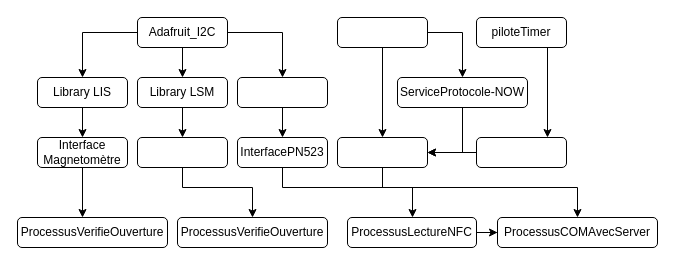
This 675x265 diagram has some shape labels left out. Each missing label, with the centre of its shape:
"Interface 3D/Accelero" goes at point 182,152.
"Interface-NOW" goes at point 382,152.
"Library PN523" goes at point 282,92.
"Pilote-NOW" goes at point 382,32.
"Service de base de temps" goes at point 521,152.
